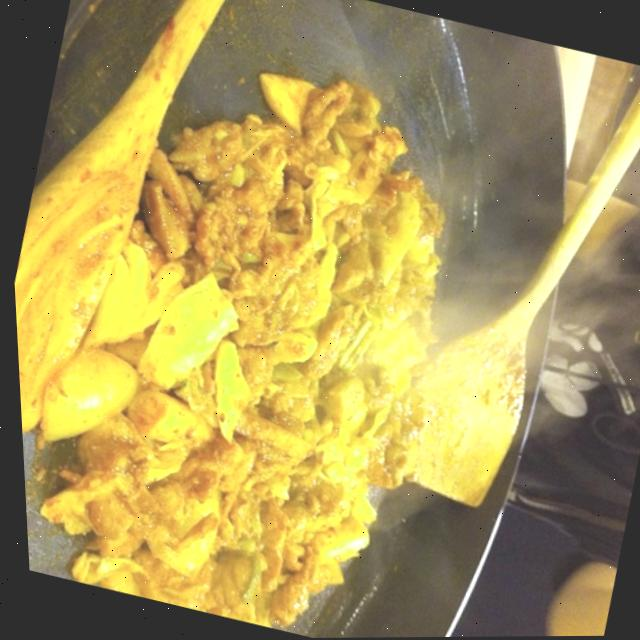鸡肉料理 含炸鸡: (3, 63, 532, 640)
